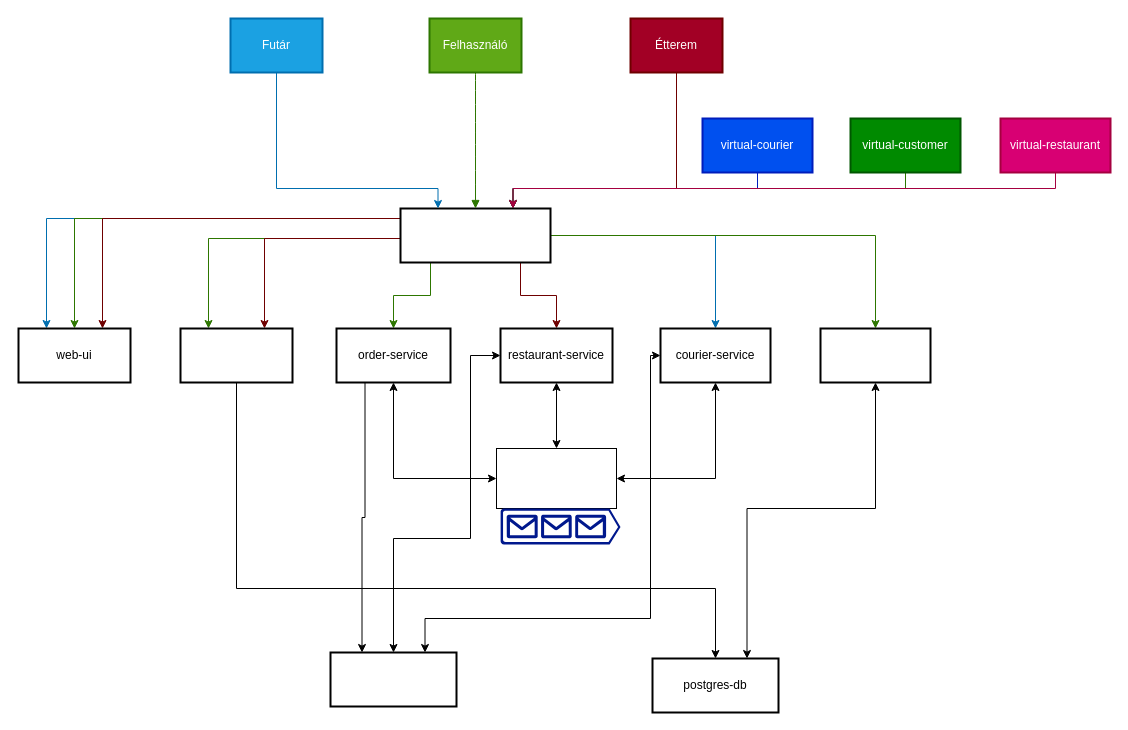
The diagram is 1128 pixels wide and 730 high, and some of its shapes have lost their labels. Here are the shapes that lost their labels. From the top down, the centre of each, then its label:
the point at 475,235: API Gateway
the point at 236,355: menu-service
the point at 875,355: user-service
the point at 556,478: message-qeuue
the point at 393,679: mongo-db
